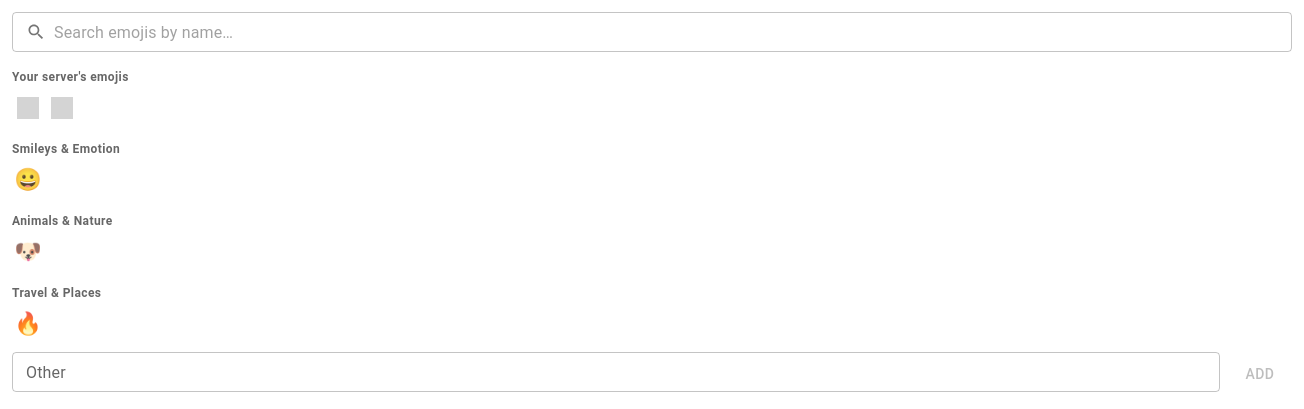
Scenario: ReactionEmojiPicker (Backlog #202) › filters both server and unicode emojis by the search query
Expected: the button named ":fire:" is shown, [12,308,44,340]
Type "fire" into the field labelled "Search emojis by name" at (673, 32), box [54,12,1292,52]
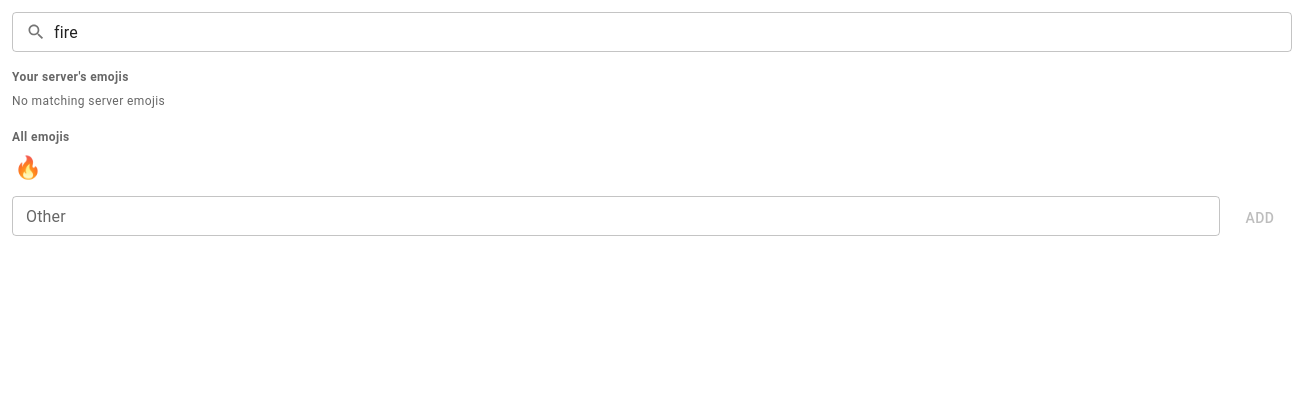
Expected: the button named ":fire:" is shown, [12,152,44,184]
Now the button ":grinning:" is gone
Now the button ":pepe:" is gone
